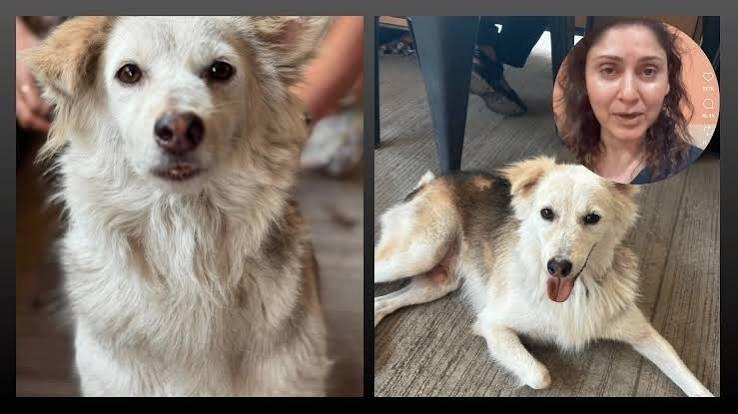adult_dog: (24, 17, 339, 398), (376, 156, 716, 398)
non-dog: (551, 18, 719, 186)
